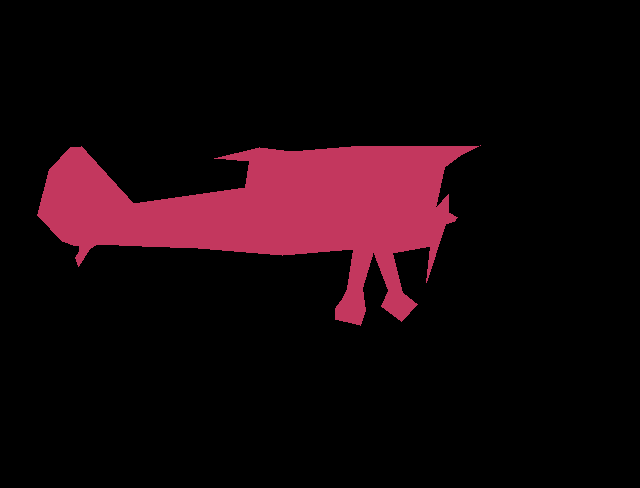Airplane: (37, 145, 481, 325)
